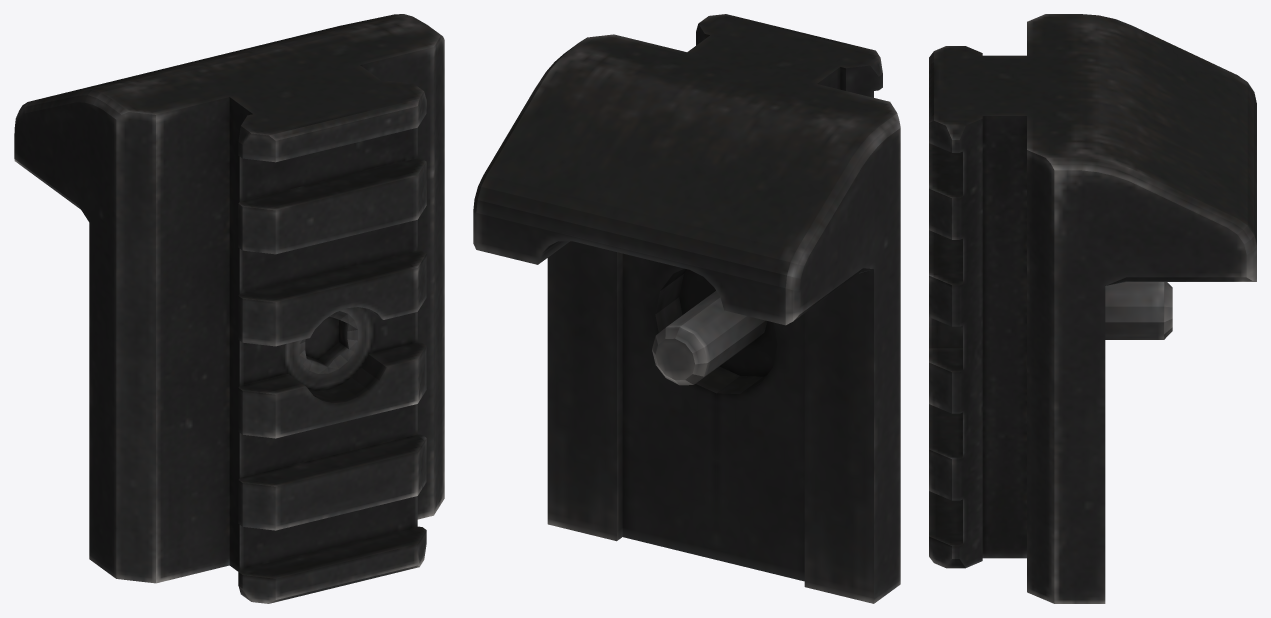
3 renders of one model, left to right at view 1: azimuth 30°, elevation 25°; view 2: azimuth 150°, elevation 25°; view 3: azimuth 270°, elevation 25°, orthographic. The views are drawn at different scales.
Visible parts, largest first — view 1: TW_66992f4db9f31ddda10dd1c8_PZ_Import; view 2: TW_66992f4db9f31ddda10dd1c8_PZ_Import; view 3: TW_66992f4db9f31ddda10dd1c8_PZ_Import.
Part boxes in pixels (<box>): TW_66992f4db9f31ddda10dd1c8_PZ_Import: <box>14,14,444,603</box>; TW_66992f4db9f31ddda10dd1c8_PZ_Import: <box>473,14,900,603</box>; TW_66992f4db9f31ddda10dd1c8_PZ_Import: <box>929,14,1256,603</box>.
Size of the model in its own units: 0.0216 by 0.0198 by 0.0294.
Materials: 1 (1 with a texture image).
